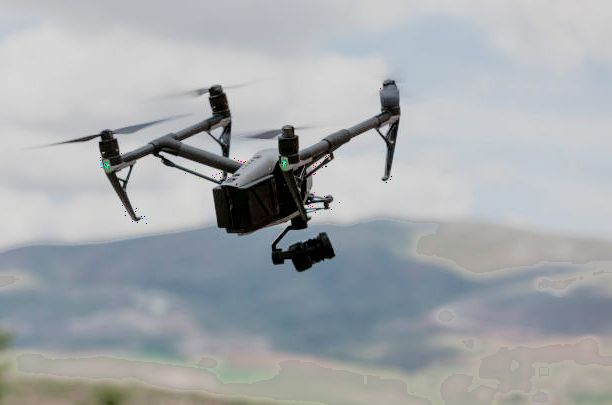Drone: (24, 71, 410, 272)
